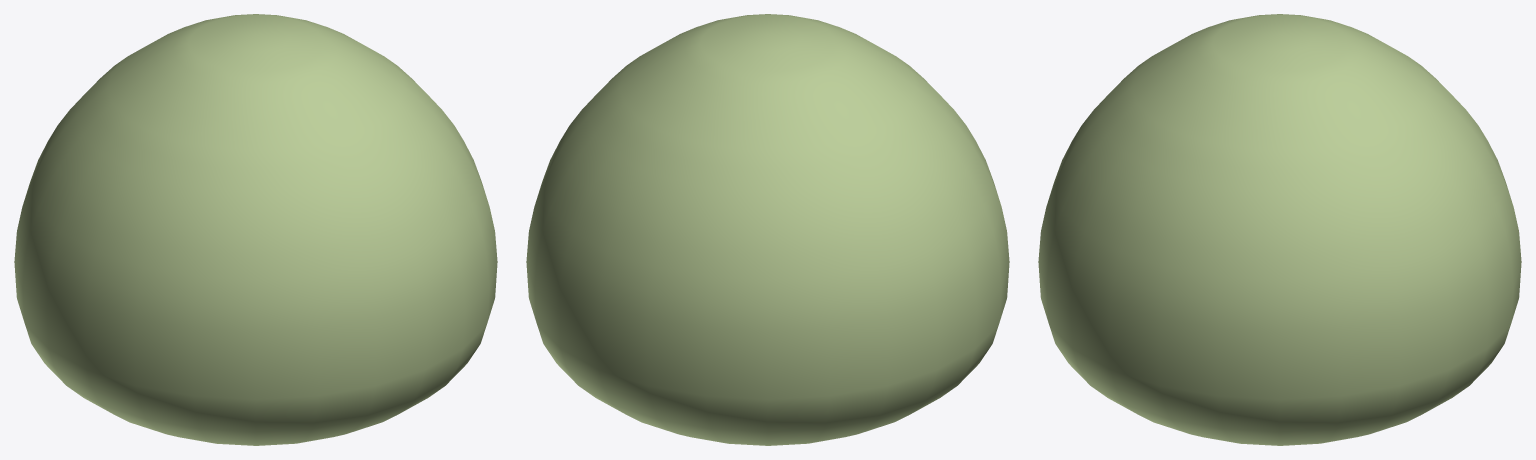
Rendered from FicusBenjamina.glb.
The picture shows the model from 3 angles, left to right: view 1: azimuth 30°, elevation 25°; view 2: azimuth 150°, elevation 25°; view 3: azimuth 270°, elevation 25°; orthographic projection.
Parts seen in each view (by area): view 1: Ficus__Schematic_LOD3; view 2: Ficus__Schematic_LOD3; view 3: Ficus__Schematic_LOD3.
Part boxes in pixels (x1,y1,x2,y2): Ficus__Schematic_LOD3: [14, 14, 497, 445]; Ficus__Schematic_LOD3: [526, 14, 1009, 445]; Ficus__Schematic_LOD3: [1038, 14, 1521, 445].
Size of the model in its own units: 33.78 by 30.43 by 33.78.
